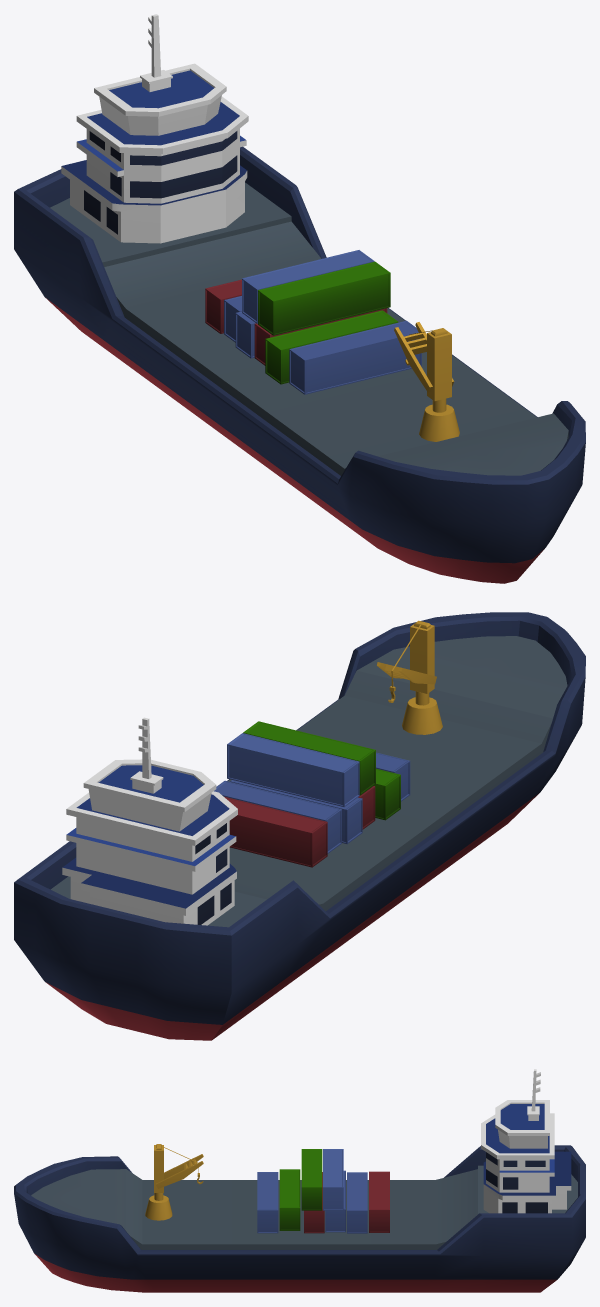
File: Cargo.fbx
The picture shows the model from 3 angles, top to bottom: view 1: azimuth 30°, elevation 25°; view 2: azimuth 150°, elevation 25°; view 3: azimuth 270°, elevation 25°; orthographic projection. The views are drawn at different scales.
Parts seen in each view (by area): view 1: polySurface26; view 2: polySurface26; view 3: polySurface26.
Boxes of the visible parts, bbox=[...] form: polySurface26: bbox=[14, 14, 585, 583]; polySurface26: bbox=[14, 612, 585, 1040]; polySurface26: bbox=[14, 1069, 585, 1292].
Size of the model in its own units: 0.0211 by 0.028 by 0.0717.
